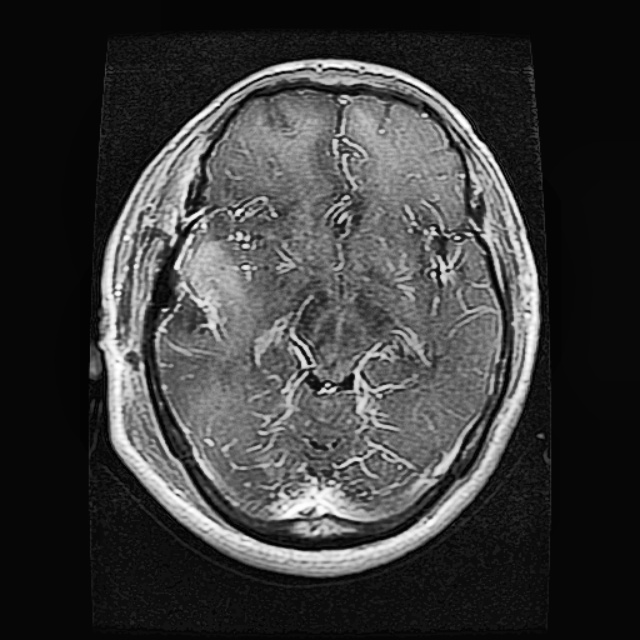Pituitary: (160, 235, 252, 353)
